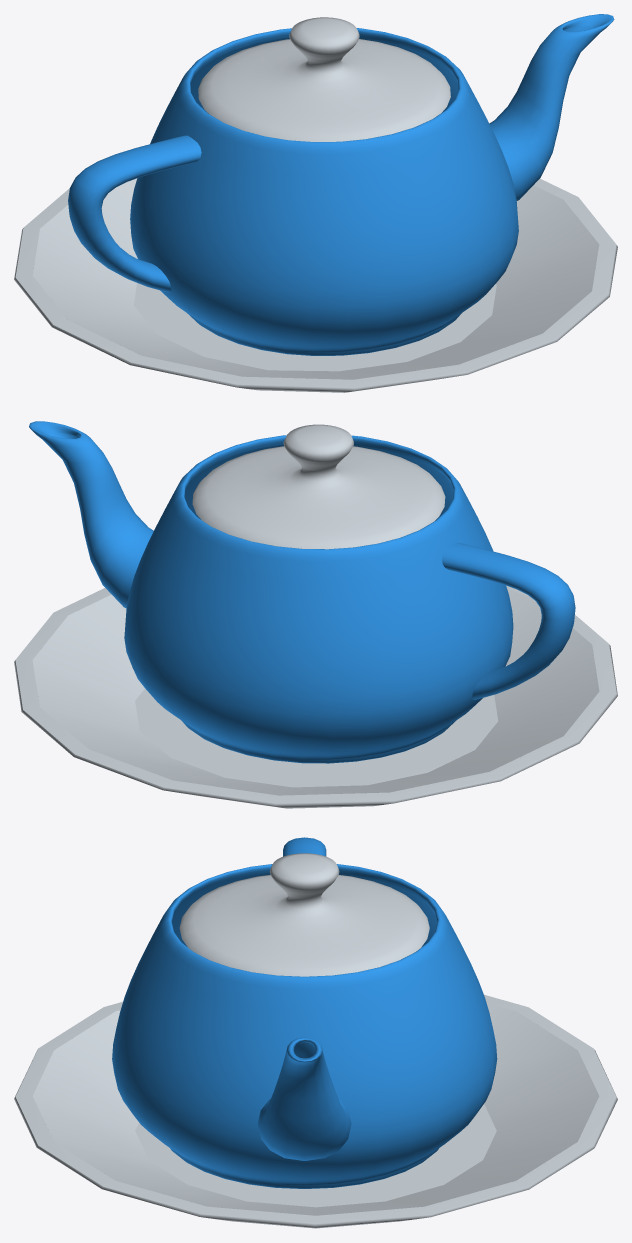
File: Tetera.fbx
3 views of the same model, one above another, from view 1: azimuth 30°, elevation 25°; view 2: azimuth 150°, elevation 25°; view 3: azimuth 270°, elevation 25° (orthographic).
Visible parts, largest first — view 1: Object002; view 2: Object002; view 3: Object002.
Part boxes in pixels (<box>): Object002: <box>14,14,617,392</box>; Object002: <box>14,421,617,808</box>; Object002: <box>14,837,617,1228</box>.
Bounding box in the file's own units: 36.22 × 17.28 × 34.41.
